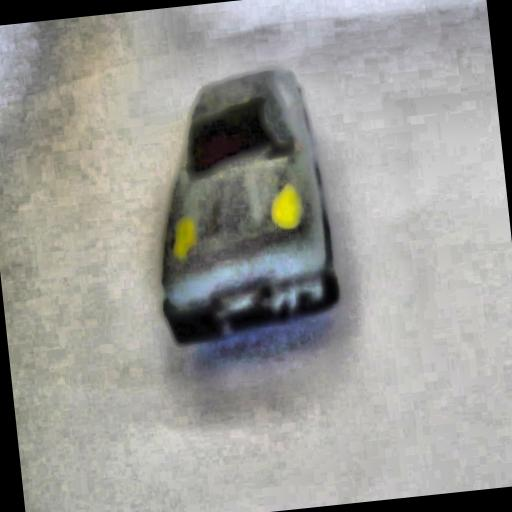normal_car: (160, 70, 337, 342)
